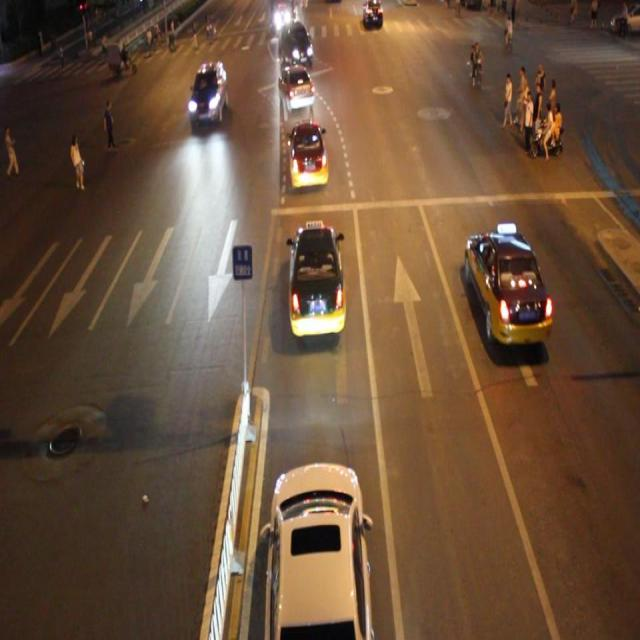car: (263, 458, 373, 640), (465, 229, 550, 347), (288, 222, 345, 337), (289, 120, 328, 190), (189, 60, 227, 120), (278, 67, 314, 113), (280, 23, 313, 68)
